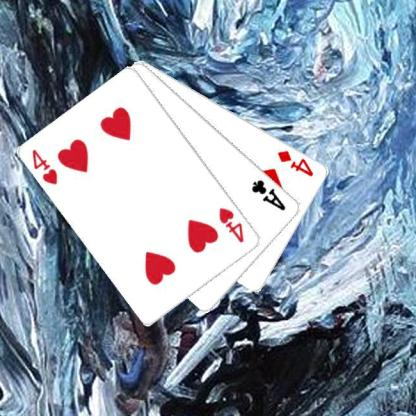4D: (275, 147, 316, 178)
4H: (216, 205, 246, 244), (30, 147, 60, 186)
AC: (249, 176, 287, 212)
